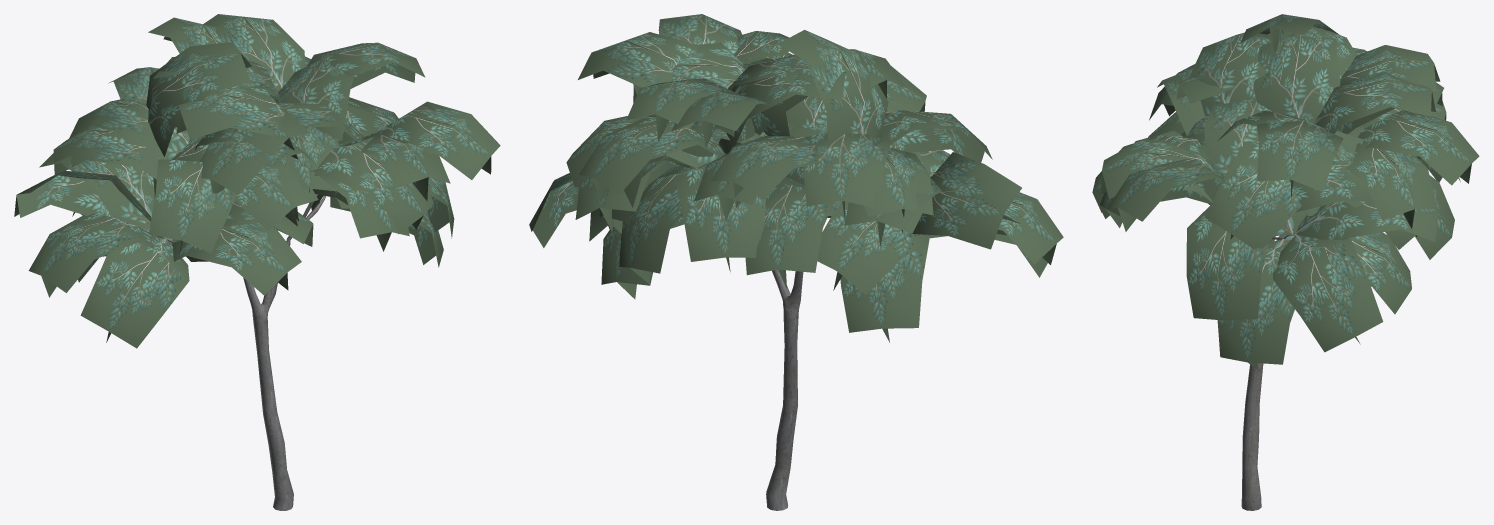
File: Tree.fbx
3 renders of one model, left to right at view 1: azimuth 30°, elevation 25°; view 2: azimuth 150°, elevation 25°; view 3: azimuth 270°, elevation 25°, orthographic. The views are drawn at different scales.
Parts seen in each view (by area): view 1: Branches, Trunk; view 2: Branches, Trunk; view 3: Branches, Trunk.
Boxes of the visible parts, <box> form: Branches: <box>14,14,500,348</box>; Trunk: <box>158,194,325,510</box>; Branches: <box>529,14,1063,342</box>; Trunk: <box>719,141,803,510</box>; Branches: <box>1092,14,1479,369</box>; Trunk: <box>1241,233,1297,510</box>.
Size of the model in its own units: 527 by 535 by 406.
Materials: 2 (2 with a texture image).
